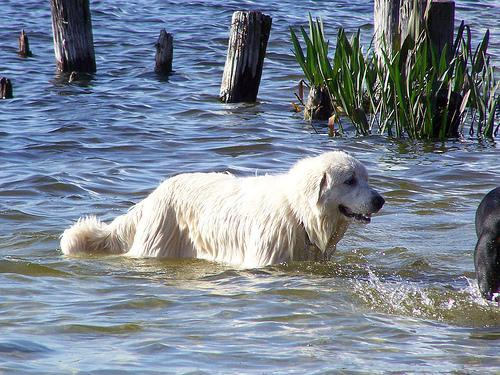Great_Pyrenees: (57, 150, 387, 272)
